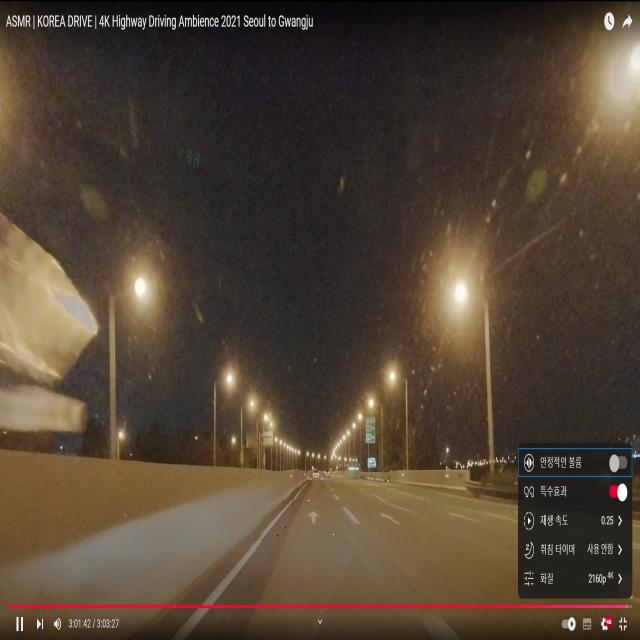forward: (262, 501, 369, 541)
